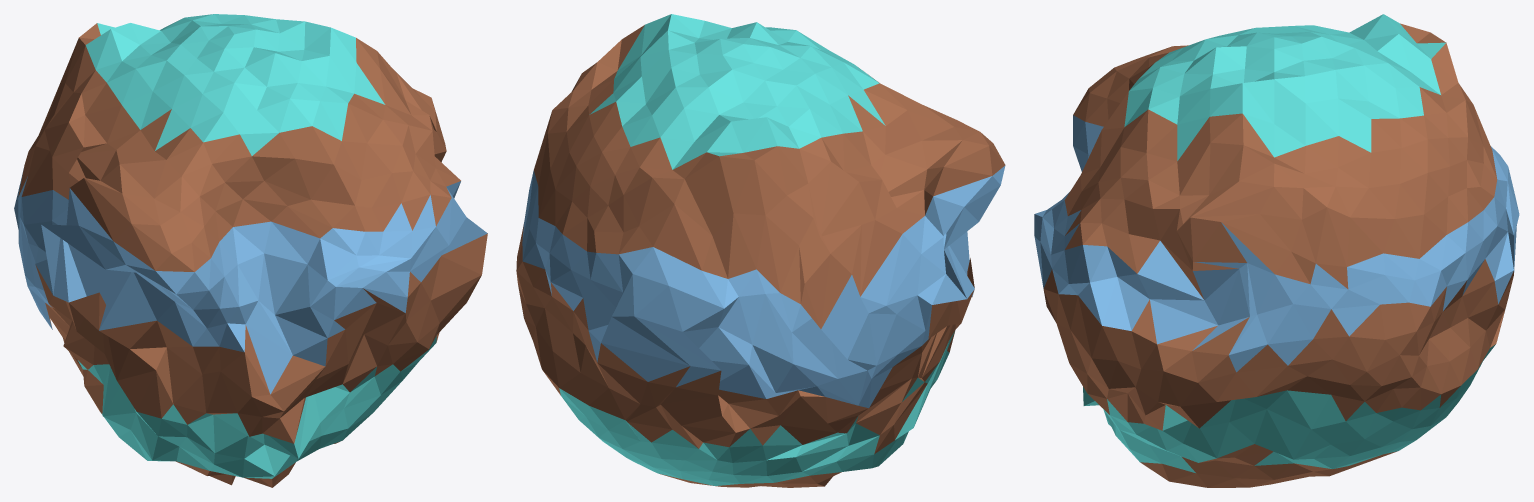
File: mainPlanet.fbx
3 views of the same model, side by side, from view 1: azimuth 30°, elevation 25°; view 2: azimuth 150°, elevation 25°; view 3: azimuth 270°, elevation 25° (orthographic). The views are drawn at different scales.
Visible parts, largest first — view 1: Icosphere.002; view 2: Icosphere.002; view 3: Icosphere.002.
Part boxes in pixels (<box>): Icosphere.002: <box>14,14,487,487</box>; Icosphere.002: <box>516,14,1005,487</box>; Icosphere.002: <box>1034,14,1519,487</box>.
Size of the model in its own units: 1501 by 1557 by 1500.
